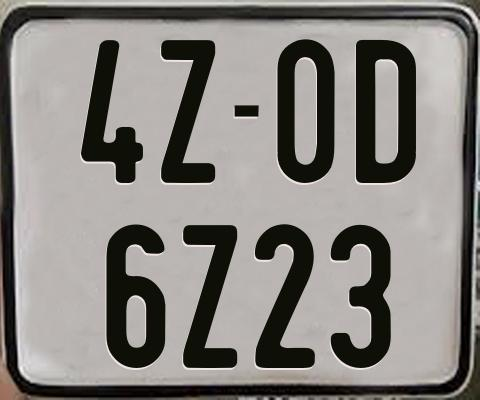0: (274, 38, 336, 184)
2: (254, 223, 317, 372)
3: (328, 222, 393, 369)
4: (81, 37, 148, 184)
6: (104, 224, 170, 372)
D: (355, 40, 421, 184)
Z: (158, 38, 217, 187), (182, 224, 239, 367)
